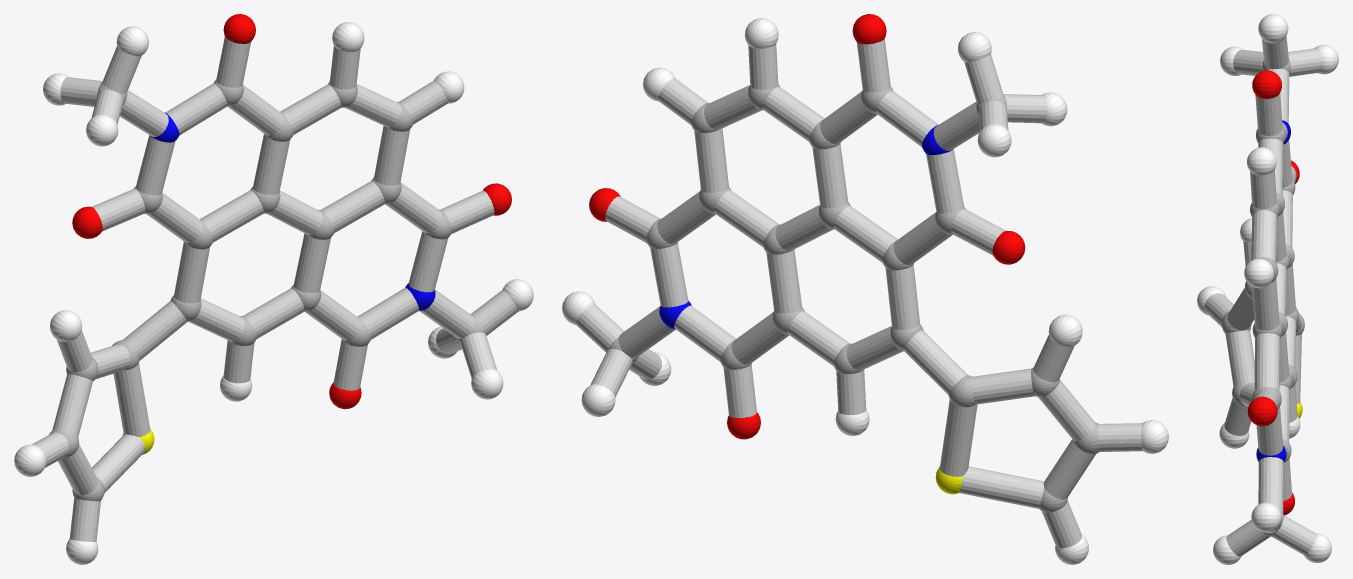
File: Dimethyl_Naphthalene_Dicarboximide_Phi_30_Theta_350_Thiophene.glb
3 views of the same model, side by side, from view 1: azimuth 30°, elevation 25°; view 2: azimuth 150°, elevation 25°; view 3: azimuth 270°, elevation 25° (orthographic). The views are drawn at different scales.
Visible parts, largest first — view 1: grp14119, grp7241, grp1, grp12309, grp11585; view 2: grp14119, grp7241, grp1, grp12309, grp11585; view 3: grp14119, grp7241, grp1, grp12309, grp11585.
Part boxes in pixels (x1,y1,x2,y2): grp14119: (32,36,518,541); grp7241: (14,22,533,564); grp1: (49,79,484,501); grp12309: (72,14,511,409); grp11585: (151,112,435,310); grp14119: (576,38,1142,548); grp7241: (562,18,1168,564); grp1: (608,84,1098,512); grp12309: (589,14,1025,439); grp11585: (659,125,952,328); grp14119: (1204,36,1323,556); grp7241: (1197,14,1338,564); grp1: (1221,59,1304,536); grp12309: (1247,70,1299,515); grp11585: (1256,120,1290,461).
Size of the model in its own units: 11.64 by 10.27 by 2.84.
